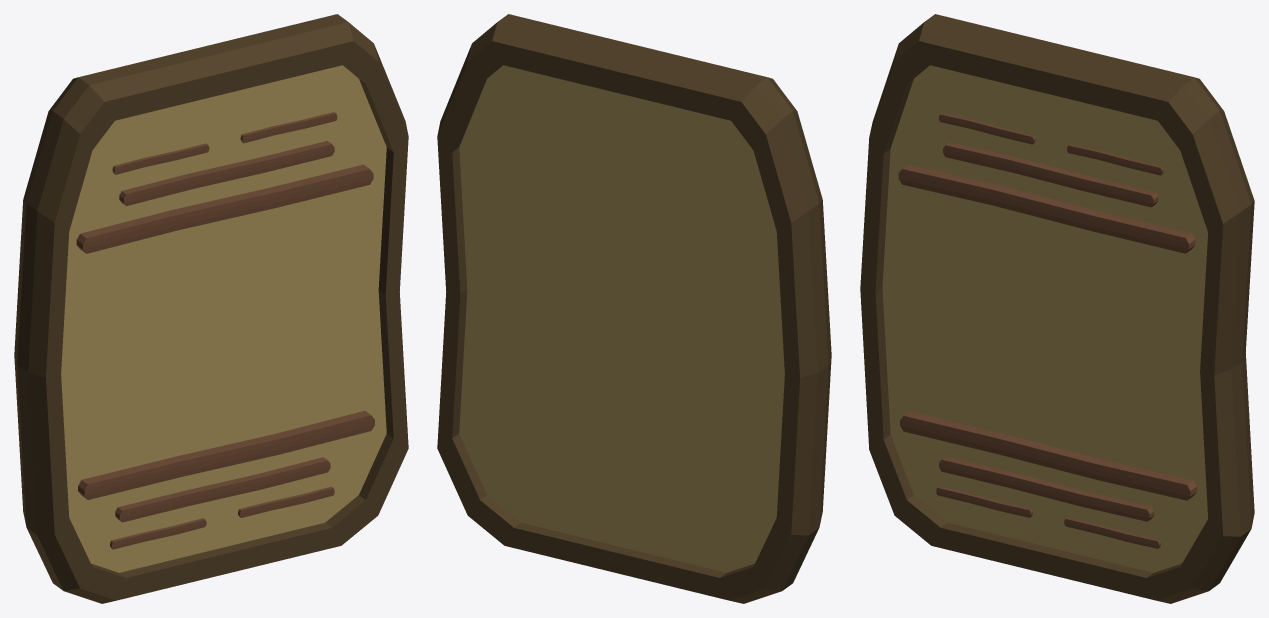
File: Tablet.fbx
3 renders of one model, left to right at view 1: azimuth 30°, elevation 25°; view 2: azimuth 150°, elevation 25°; view 3: azimuth 330°, elevation 25°, orthographic.
Parts seen in each view (by area): view 1: Cube; view 2: Cube; view 3: Cube.
Boxes of the visible parts, x1=… form: Cube: x1=14, y1=14, x2=408, y2=603; Cube: x1=437, y1=14, x2=831, y2=603; Cube: x1=860, y1=14, x2=1254, y2=603.
Size of the model in its own units: 253 by 334 by 36.69.
